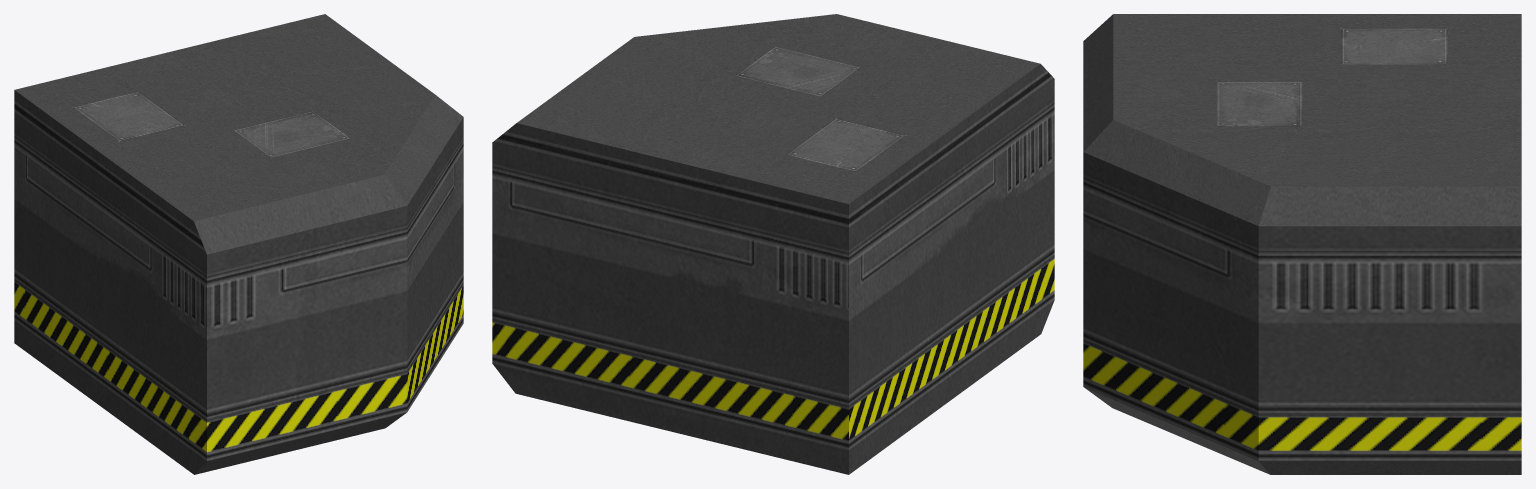
The model's file is Map_Platform_Cornered_Angle_Ext.fbx.
3 views of the same model, side by side, from view 1: azimuth 30°, elevation 25°; view 2: azimuth 150°, elevation 25°; view 3: azimuth 270°, elevation 25° (orthographic). The views are drawn at different scales.
Visible parts, largest first — view 1: Map_Platform_Cornered_Angle_Ext; view 2: Map_Platform_Cornered_Angle_Ext; view 3: Map_Platform_Cornered_Angle_Ext.
Boxes of the visible parts, bbox=[...] form: Map_Platform_Cornered_Angle_Ext: bbox=[14, 14, 463, 474]; Map_Platform_Cornered_Angle_Ext: bbox=[492, 14, 1054, 474]; Map_Platform_Cornered_Angle_Ext: bbox=[1083, 14, 1521, 474].
Size of the model in its own units: 620 by 450 by 620.
1 material, 1 textured.
